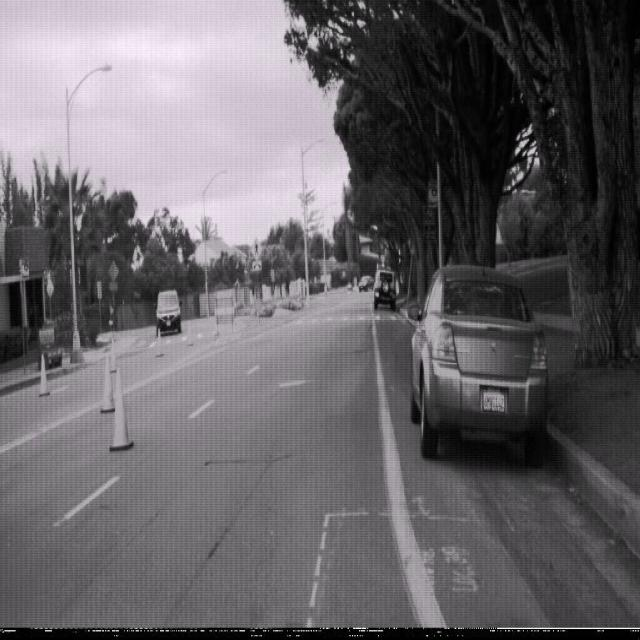pedestrianCrossing: (249, 235, 263, 262)
